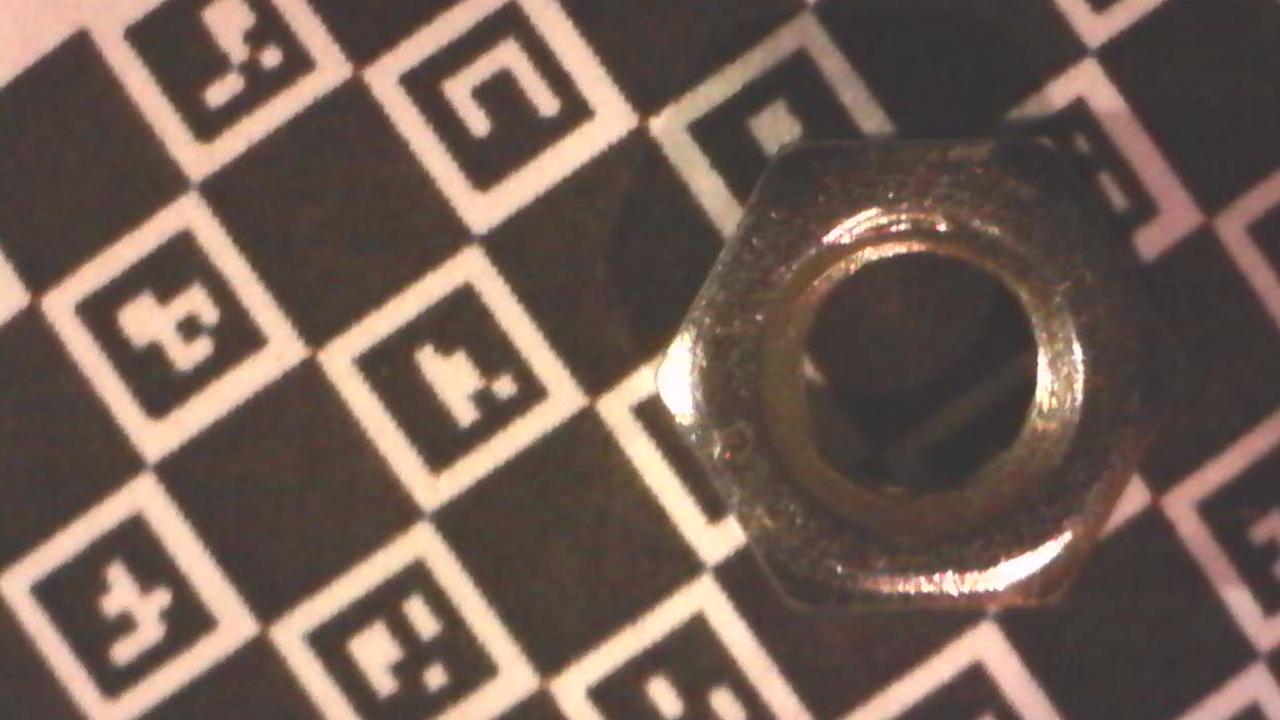Bolt: (653, 128, 1193, 614)
